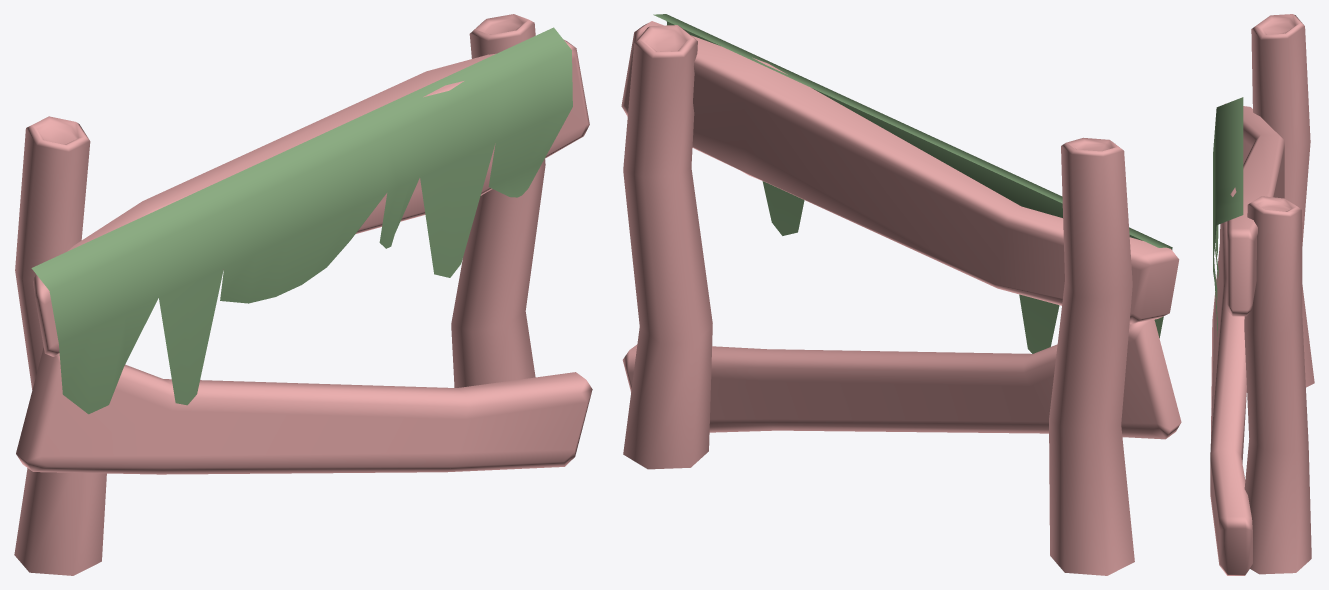
Rendered from Fence_3.fbx.
3 renders of one model, left to right at view 1: azimuth 30°, elevation 25°; view 2: azimuth 150°, elevation 25°; view 3: azimuth 270°, elevation 25°, orthographic. The views are drawn at different scales.
Parts seen in each view (by area): view 1: Fence_3; view 2: Fence_3; view 3: Fence_3.
Boxes of the visible parts, left/top/right/bottom form: Fence_3: left=14, top=14, right=592, bottom=575; Fence_3: left=621, top=14, right=1181, bottom=575; Fence_3: left=1210, top=14, right=1314, bottom=575.
Size of the model in its own units: 127 by 93.14 by 24.42.
